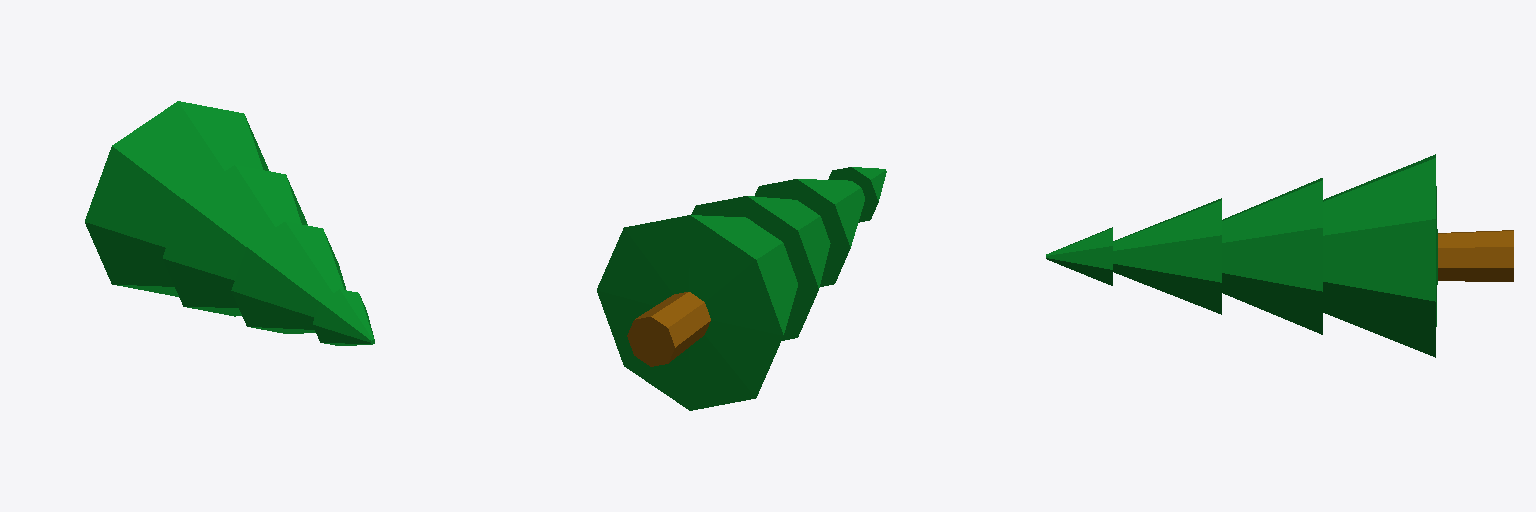
The model's file is pinev2.obj.
3 renders of one model, left to right at view 1: azimuth 30°, elevation 25°; view 2: azimuth 150°, elevation 25°; view 3: azimuth 270°, elevation 25°, orthographic.
Parts seen in each view (by area): view 1: Object.1; view 2: Object.1; view 3: Object.1.
Boxes of the visible parts, x1=… form: Object.1: x1=85, y1=101, x2=374, y2=345; Object.1: x1=597, y1=167, x2=886, y2=410; Object.1: x1=1046, y1=154, x2=1513, y2=357.
Bounding box in the file's own units: 52.51 × 52.51 × 114.